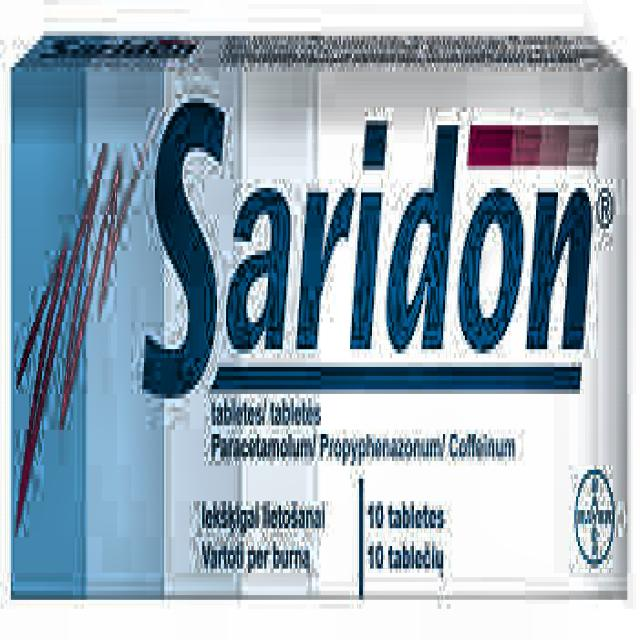Saridon: (125, 60, 620, 495)
